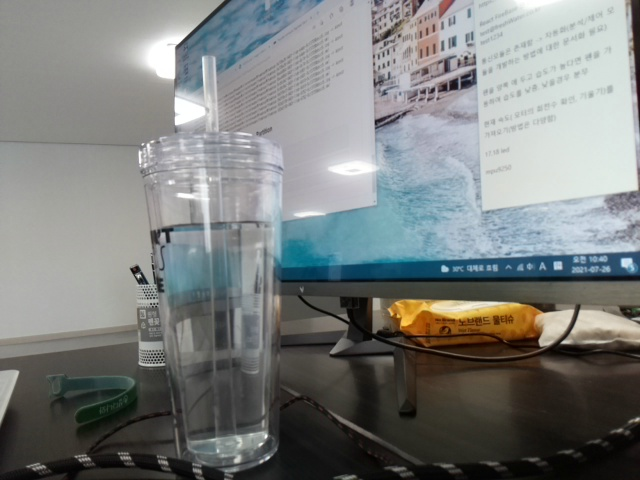Bottle2: (141, 52, 291, 480)
